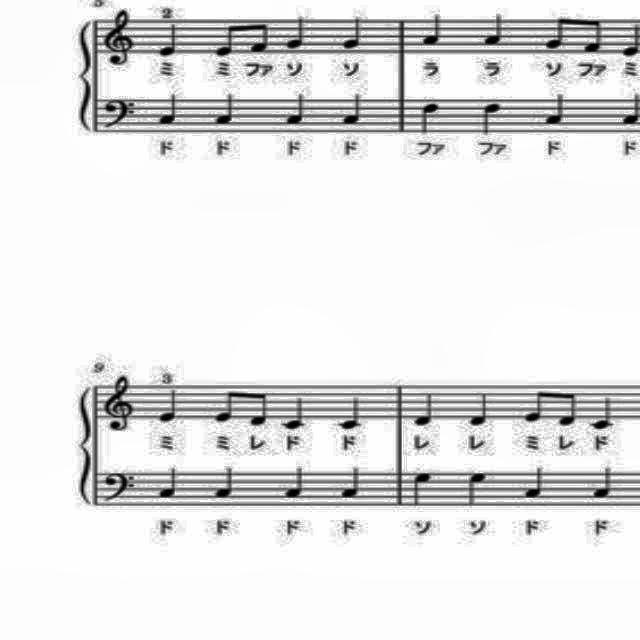Bass-clef: (98, 467, 138, 507), (98, 94, 138, 132)
Eighth-note: (541, 9, 571, 55), (580, 10, 608, 58), (523, 384, 551, 428), (210, 18, 238, 62), (246, 386, 272, 432), (210, 386, 238, 428), (554, 386, 580, 430), (247, 16, 273, 58)
Quarter-note: (278, 394, 310, 434), (480, 9, 510, 51), (337, 394, 368, 434), (280, 464, 310, 504), (589, 394, 619, 434), (210, 462, 240, 502), (540, 90, 570, 130), (465, 388, 493, 430), (462, 467, 490, 509), (419, 9, 447, 51), (339, 11, 367, 53), (410, 389, 438, 431), (282, 89, 310, 130), (340, 89, 368, 130), (156, 89, 184, 130), (156, 387, 184, 428), (409, 467, 436, 509), (212, 89, 240, 129), (282, 12, 310, 52), (478, 99, 506, 139), (338, 463, 366, 503), (156, 19, 184, 59), (156, 464, 184, 504), (590, 464, 618, 504), (521, 464, 549, 504), (416, 99, 444, 138), (618, 18, 640, 60), (619, 87, 640, 128), (639, 87, 640, 128)
Treble-clef: (102, 7, 142, 71), (102, 372, 142, 436)
